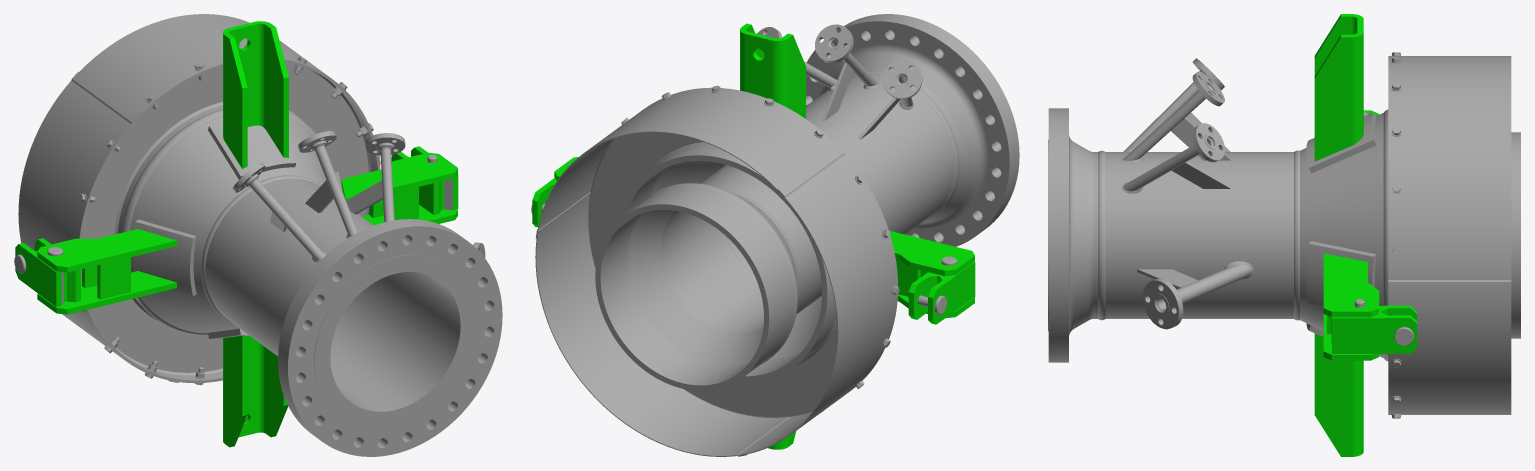
File: Pantografica.fbx
3 views of the same model, side by side, from view 1: azimuth 30°, elevation 25°; view 2: azimuth 150°, elevation 25°; view 3: azimuth 270°, elevation 25° (orthographic). The views are drawn at different scales.
Visible parts, largest first — view 1: CONJUNTO_TERMINAL:PROTEAAOEXTERNA, CONJUNTO_TERMINAL:FLANGE, CONJUNTO_TERMINAL:TERMINAL1, CONJUNTO_TERMINAL:REDUÃ_ÃƒO, CONJUNTO_TERMINAL:SUPORTEBRAÃ_O19, CONJUNTO_TERMINAL:SELA, CONJUNTO_TERMINAL:SUPORTETIRANTE1, CONJUNTO_TERMINAL:SELA1, CONJUNTO_TERMINAL:SOLDA02, CONJUNTO_TERMINAL:ESCORA3, CONJUNTO_TERMINAL:TUBO3, CONJUNTO_TERMINAL:FLANGE3 (+2 smaller); view 2: CONJUNTO_TERMINAL:PROTEAAOEXTERNA, CONJUNTO_TERMINAL:GUIAINTERNA1, CONJUNTO_TERMINAL:FLANGE, CONJUNTO_TERMINAL:GUIAINTERNA, CONJUNTO_TERMINAL:TERMINAL1, CONJUNTO_TERMINAL:SUPORTEBRAÃ_O19, CONJUNTO_TERMINAL:TERMINAL, CONJUNTO_TERMINAL:SELA, CONJUNTO_TERMINAL:REDUÃ_ÃƒO, CONJUNTO_TERMINAL:TUBO3, CONJUNTO_TERMINAL:FLANGE3, CONJUNTO_TERMINAL:SOLDA01 (+2 smaller); view 3: CONJUNTO_TERMINAL:PROTEAAOEXTERNA, CONJUNTO_TERMINAL:TERMINAL1, CONJUNTO_TERMINAL:FLANGE, CONJUNTO_TERMINAL:REDUÃ_ÃƒO, CONJUNTO_TERMINAL:SELA1, CONJUNTO_TERMINAL:SELA, CONJUNTO_TERMINAL:SUPORTETIRANTE1, CONJUNTO_TERMINAL:TUBO1, CONJUNTO_TERMINAL:ESCORA3, CONJUNTO_TERMINAL:TUBO3, CONJUNTO_TERMINAL:SOLDA02, CONJUNTO_TERMINAL:GUIAINTERNA (+2 smaller).
Boxes of the visible parts, left/top/right/bottom form: CONJUNTO_TERMINAL:PROTEAAOEXTERNA: left=18, top=14, right=380, bottom=383; CONJUNTO_TERMINAL:FLANGE: left=278, top=219, right=502, bottom=456; CONJUNTO_TERMINAL:TERMINAL1: left=205, top=178, right=434, bottom=392; CONJUNTO_TERMINAL:REDUÃ_ÃƒO: left=129, top=116, right=326, bottom=333; CONJUNTO_TERMINAL:SUPORTEBRAÃ_O19: left=15, top=219, right=196, bottom=314; CONJUNTO_TERMINAL:SELA: left=208, top=21, right=296, bottom=179; CONJUNTO_TERMINAL:SUPORTETIRANTE1: left=208, top=328, right=288, bottom=447; CONJUNTO_TERMINAL:SELA1: left=335, top=146, right=458, bottom=225; CONJUNTO_TERMINAL:SOLDA02: left=121, top=109, right=331, bottom=334; CONJUNTO_TERMINAL:ESCORA3: left=346, top=133, right=405, bottom=222; CONJUNTO_TERMINAL:TUBO3: left=298, top=131, right=358, bottom=238; CONJUNTO_TERMINAL:FLANGE3: left=232, top=162, right=326, bottom=262; CONJUNTO_TERMINAL:PROTEAAOEXTERNA: left=535, top=87, right=897, bottom=456; CONJUNTO_TERMINAL:GUIAINTERNA1: left=627, top=165, right=821, bottom=365; CONJUNTO_TERMINAL:FLANGE: left=806, top=14, right=1019, bottom=246; CONJUNTO_TERMINAL:GUIAINTERNA: left=595, top=186, right=794, bottom=390; CONJUNTO_TERMINAL:TERMINAL1: left=806, top=74, right=954, bottom=234; CONJUNTO_TERMINAL:SUPORTEBRAÃ_O19: left=890, top=231, right=975, bottom=324; CONJUNTO_TERMINAL:TERMINAL: left=619, top=144, right=836, bottom=381; CONJUNTO_TERMINAL:SELA: left=740, top=23, right=805, bottom=118; CONJUNTO_TERMINAL:REDUÃ_ÃƒO: left=651, top=161, right=821, bottom=358; CONJUNTO_TERMINAL:TUBO3: left=815, top=24, right=879, bottom=120; CONJUNTO_TERMINAL:FLANGE3: left=857, top=59, right=922, bottom=139; CONJUNTO_TERMINAL:SOLDA01: left=852, top=71, right=958, bottom=219; CONJUNTO_TERMINAL:PROTEAAOEXTERNA: left=1388, top=56, right=1511, bottom=414; CONJUNTO_TERMINAL:TERMINAL1: left=1105, top=152, right=1293, bottom=318; CONJUNTO_TERMINAL:FLANGE: left=1048, top=108, right=1097, bottom=362; CONJUNTO_TERMINAL:REDUÃ_ÃƒO: left=1300, top=113, right=1383, bottom=357; CONJUNTO_TERMINAL:SELA1: left=1306, top=241, right=1417, bottom=360; CONJUNTO_TERMINAL:SELA: left=1306, top=14, right=1376, bottom=173; CONJUNTO_TERMINAL:SUPORTETIRANTE1: left=1306, top=323, right=1363, bottom=456; CONJUNTO_TERMINAL:TUBO1: left=1137, top=261, right=1253, bottom=329; CONJUNTO_TERMINAL:ESCORA3: left=1122, top=123, right=1231, bottom=193; CONJUNTO_TERMINAL:TUBO3: left=1122, top=71, right=1231, bottom=163; CONJUNTO_TERMINAL:SOLDA02: left=1294, top=109, right=1388, bottom=361; CONJUNTO_TERMINAL:GUIAINTERNA: left=1511, top=132, right=1520, bottom=338.
Bounding box in the file's own units: 1.47 × 1.41 × 1.44.
